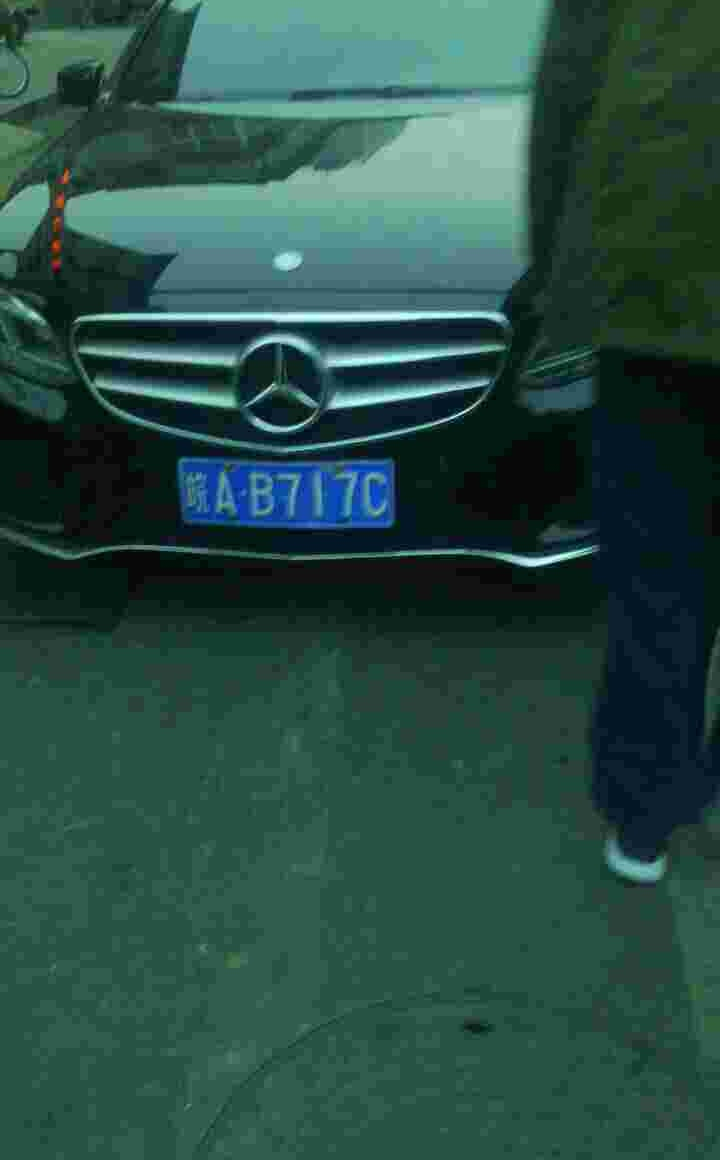license_plate: (172, 448, 415, 542)
